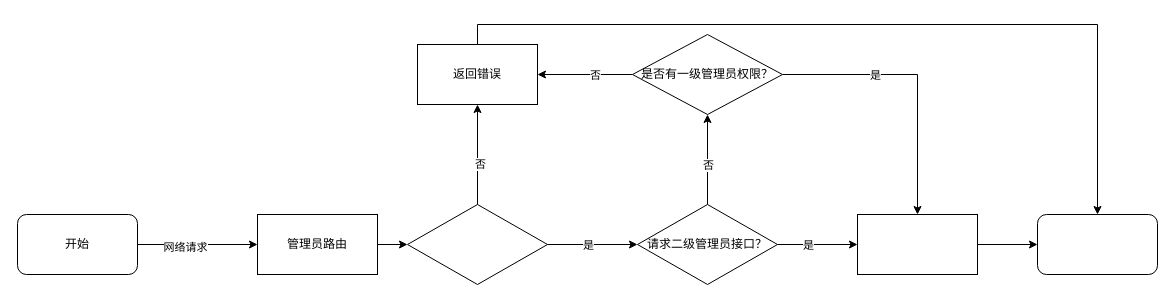
Some shapes in this 1175 by 302 pixel diagram are drawn without their labels. The centre of each missing label's shape, as x and y in pixels:
响应请求: (x=917, y=244)
是否有管理员权限？: (x=477, y=244)
结束: (x=1097, y=244)
